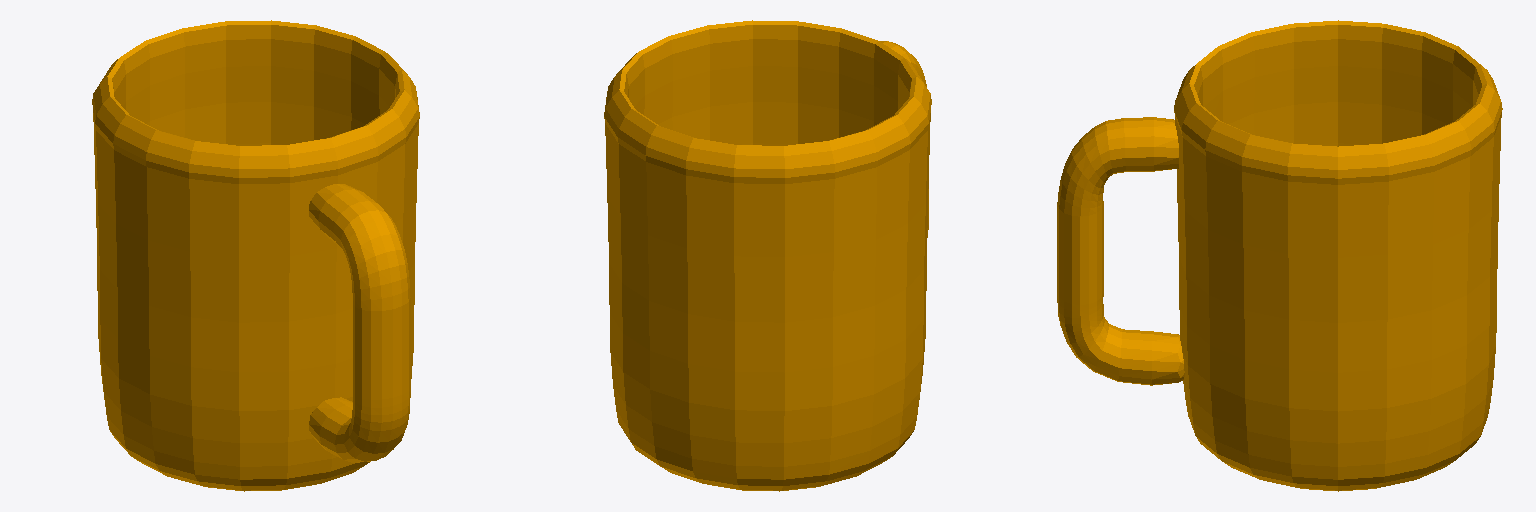
robot.urdf — race_mug3:
<?xml version="1.0" ?>
<!-- =================================================================================== -->
<!-- |    This document was autogenerated by xacro from race_coffee_cup.urdf.xacro     | -->
<!-- |    EDITING THIS FILE BY HAND IS NOT RECOMMENDED                                 | -->
<!-- =================================================================================== -->
<robot name="race_mug3" xmlns:xacro="http://ros.org/wiki/xacro">
  <link name="body">
    <inertial>
      <mass value="0.3"/>
      <origin xyz="0 0 0.04"/>
      <inertia ixx="0.000369999852" ixy="0.0" ixz="0.0" iyy="0.000369999852" iyz="0.0" izz="0.00024"/>
    </inertial>
    <visual>
      <origin rpy="0 0 0" xyz="0 0 0"/>
      <geometry>
        <!--<cylinder radius="0.04" length="0.1"/>-->
        <mesh filename="package://active_perception_evaluation/Media/models/race_mug3.dae" scale="1 1 1"/>
      </geometry>
    </visual>
    <collision>
      <origin rpy="0 0 0" xyz="0 0 0.05"/>
      <geometry>
        <cylinder length="0.1" radius="0.04"/>
        <!--<mesh filename="package://active_perception_evaluation/Media/models/race_mug3.dae" scale="1 1 1" />-->
      </geometry>
    </collision>
  </link>
  <gazebo reference="body">
    <material>Gazebo/WhiteGlow</material>
  </gazebo>
</robot>

--- What the picture shows (computed from the rendered views, not written in the file) ---
The picture shows the robot from 3 angles, left to right: view 1: azimuth 30°, elevation 25°; view 2: azimuth 150°, elevation 25°; view 3: azimuth 270°, elevation 25°; orthographic projection.
Model race_mug3 with 1 links and 0 joints (none), rooted at body, posed every joint at zero.
Links seen in each view (by area): view 1: body; view 2: body; view 3: body.
Boxes of the visible links, box(x1,y1,x2,y2) form: body: box(92, 20, 419, 491); body: box(604, 20, 931, 491); body: box(1057, 20, 1502, 491).
Size in the robot's own frame: 0.0836 by 0.1131 by 0.1013 metres.
1 mesh visuals loaded from 1 distinct referenced files (1 Collada DAE).
